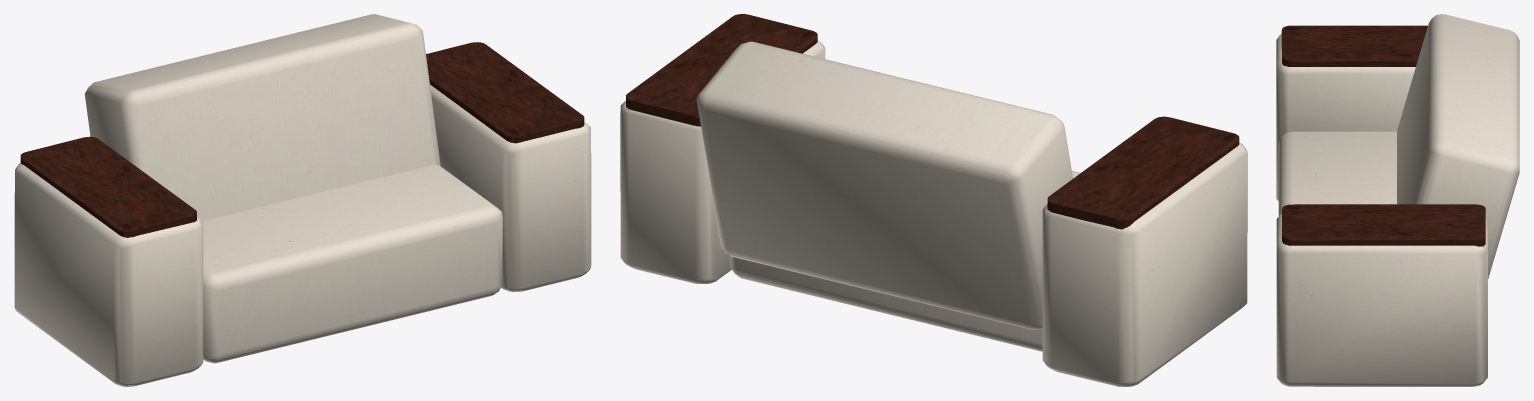
Rendered from sofa-27.glb.
3 views of the same model, side by side, from view 1: azimuth 30°, elevation 25°; view 2: azimuth 150°, elevation 25°; view 3: azimuth 270°, elevation 25° (orthographic). The views are drawn at different scales.
Parts seen in each view (by area): view 1: Cube.004_6, Cube_1, Cube.001_5, Cube.002_2, Cube.003_4, Cube.005_3; view 2: Cube.004_6, Cube.001_5, Cube.002_2, Cube.003_4, Cube.005_3, Cube_1; view 3: Cube.002_2, Cube.004_6, Cube.001_5, Cube_1, Cube.005_3, Cube.003_4.
Boxes of the visible parts, box(x1,y1,x2,y2) form: Cube.004_6: box(84, 14, 440, 221); Cube_1: box(126, 164, 502, 363); Cube.001_5: box(14, 163, 203, 386); Cube.002_2: box(430, 84, 591, 292); Cube.003_4: box(20, 136, 196, 237); Cube.005_3: box(426, 42, 584, 143); Cube.004_6: box(696, 41, 1072, 329); Cube.001_5: box(1042, 143, 1247, 386); Cube.002_2: box(620, 40, 825, 283); Cube.003_4: box(1047, 116, 1239, 229); Cube.005_3: box(626, 14, 817, 126); Cube_1: box(730, 170, 1080, 351); Cube.002_2: box(1276, 213, 1487, 386); Cube.004_6: box(1397, 14, 1519, 278); Cube.001_5: box(1276, 34, 1415, 200); Cube_1: box(1278, 131, 1396, 215); Cube.005_3: box(1282, 204, 1485, 246); Cube.003_4: box(1281, 25, 1427, 66).
Bounding box in the file's own units: 14.13 × 6.07 × 6.59.
Materials: 2 (2 with a texture image).
